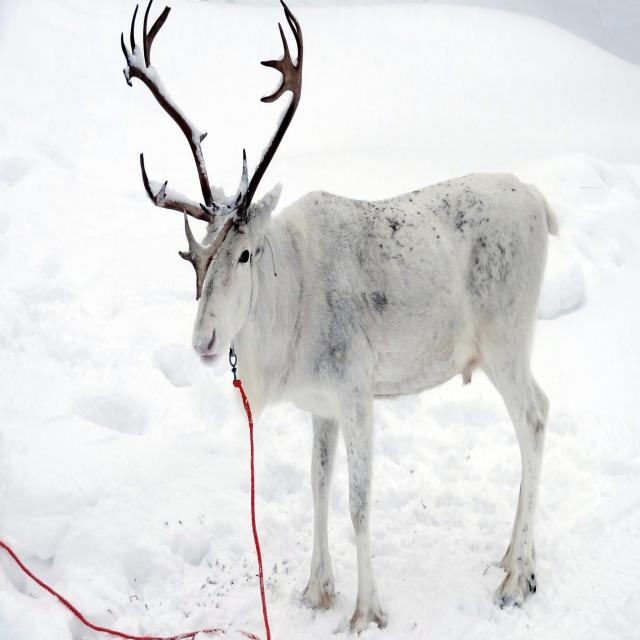reindeer: (121, 3, 558, 630)
